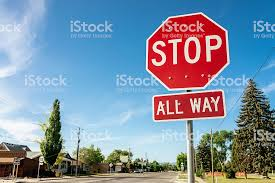Stop: (138, 34, 246, 88)
